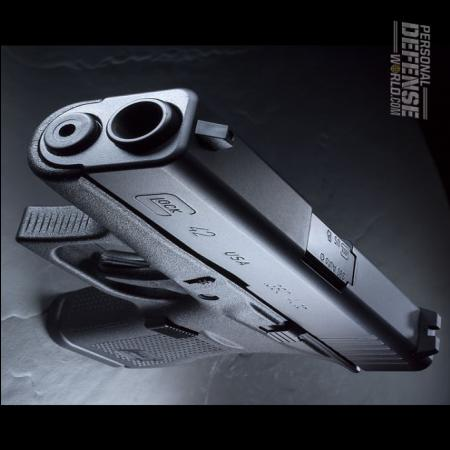Pistol: (17, 92, 440, 374)
